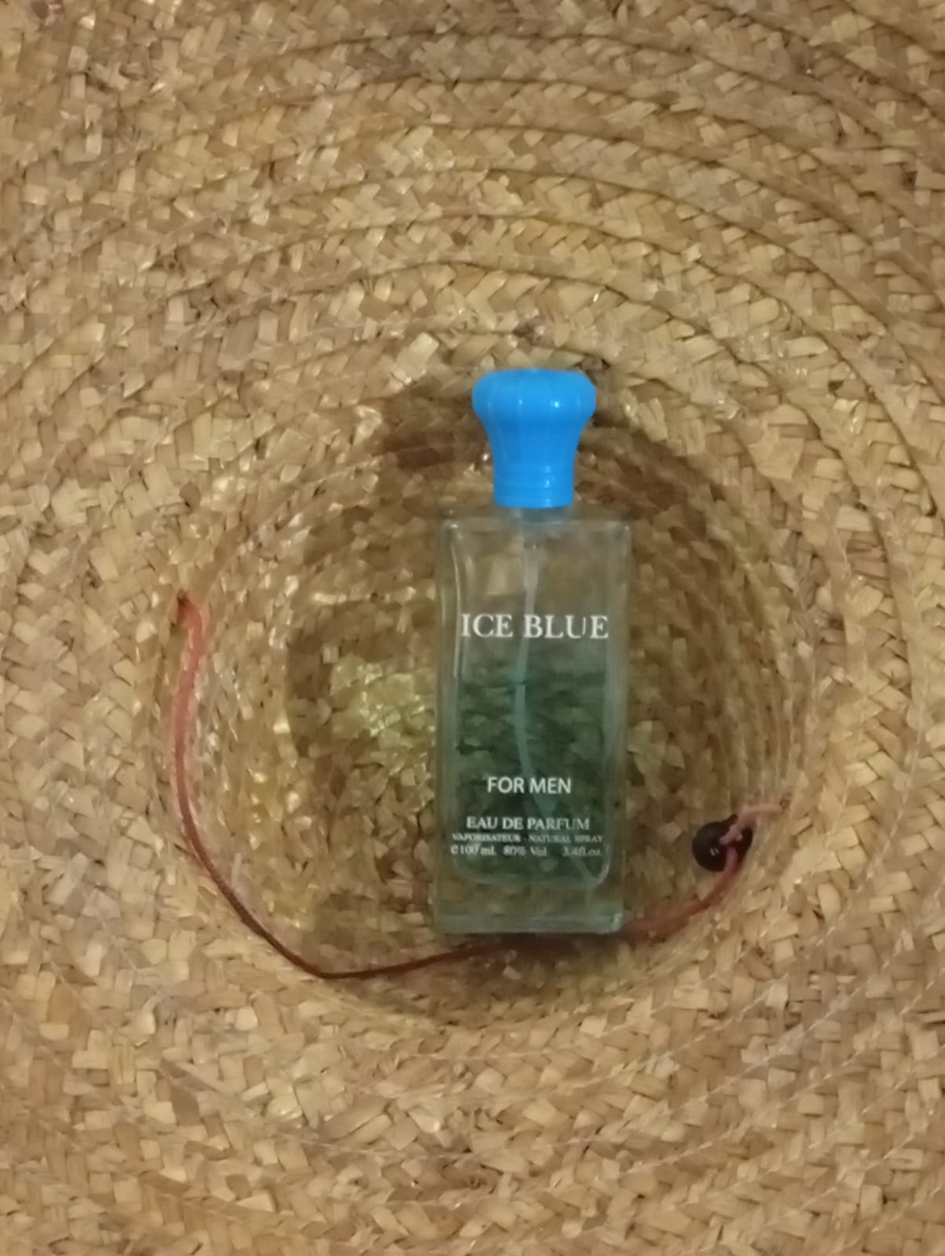Parfum: (351, 361, 692, 953)
